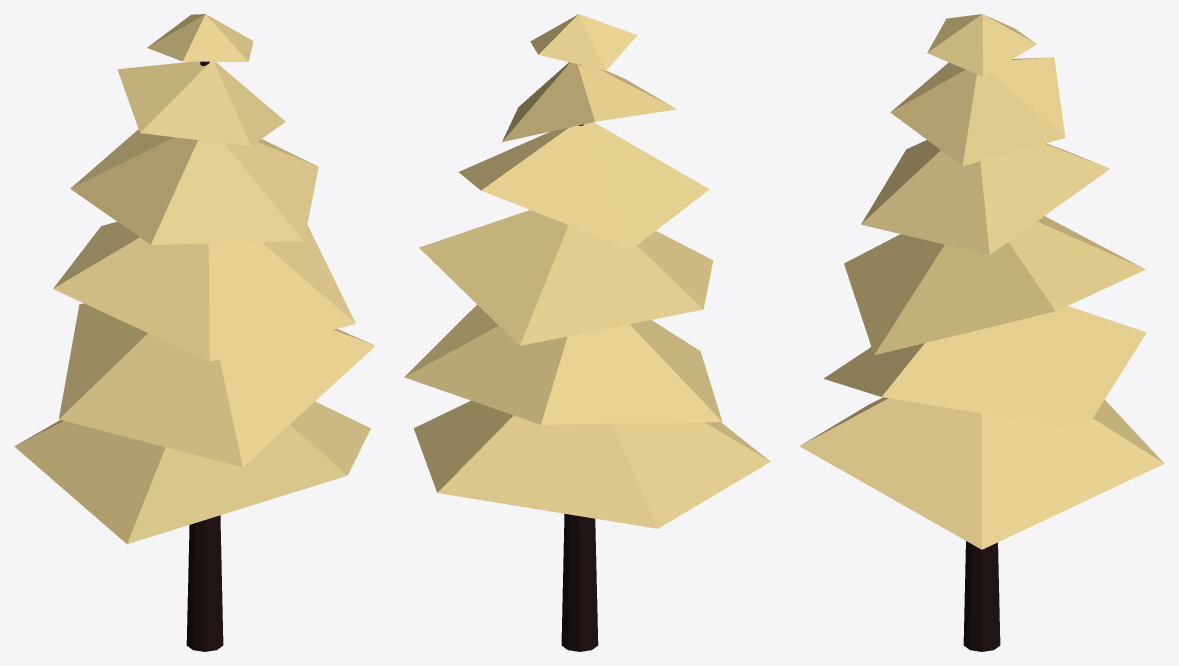
Rendered from Yellow_Tree.fbx.
3 renders of one model, left to right at view 1: azimuth 30°, elevation 25°; view 2: azimuth 150°, elevation 25°; view 3: azimuth 270°, elevation 25°, orthographic.
Visible parts, largest first — view 1: pCone2, pCone3, pCone1, pCone4, pCone5, pCylinder1, pCone6; view 2: pCone1, pCone3, pCone2, pCone4, pCone5, pCylinder1, pCone6; view 3: pCone1, pCone3, pCone2, pCone4, pCone5, pCone6, pCylinder1.
Boxes of the visible parts, x1,y1,x2,y2 form: pCone2: (59,303,375,467); pCone3: (53,221,355,361); pCone1: (14,401,370,544); pCone4: (70,129,318,244); pCone5: (117,61,285,146); pCylinder1: (186,61,223,651); pCone6: (147,14,253,61); pCone1: (414,400,770,528); pCone3: (419,210,713,345); pCone2: (404,304,722,424); pCone4: (458,122,709,249); pCone5: (502,62,676,141); pCylinder1: (561,64,598,651); pCone6: (530,14,637,70); pCone1: (799,397,1164,549); pCone3: (844,216,1145,355); pCone2: (823,306,1146,429); pCone4: (861,140,1109,254); pCone5: (890,57,1065,165); pCone6: (927,14,1036,76); pCylinder1: (963,541,1000,651).
Size of the model in its own units: 5.97 by 11.56 by 6.07.
